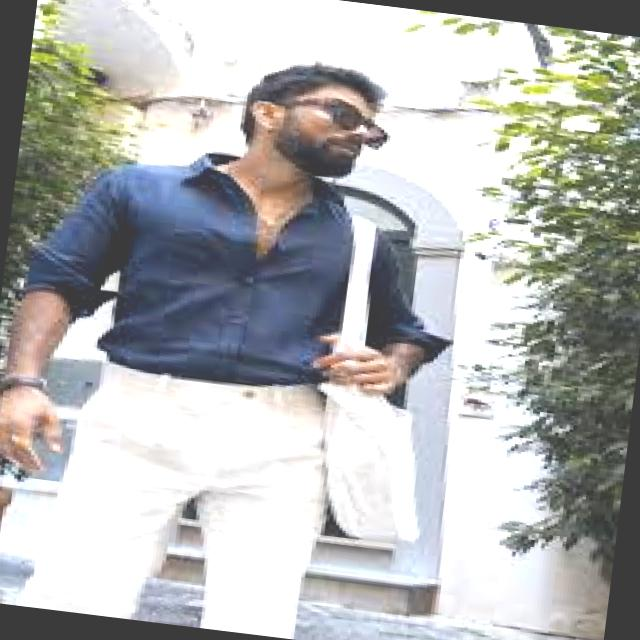face: (272, 87, 372, 177)
lower-wear: (19, 364, 325, 638)
top-wear: (26, 154, 352, 385)
